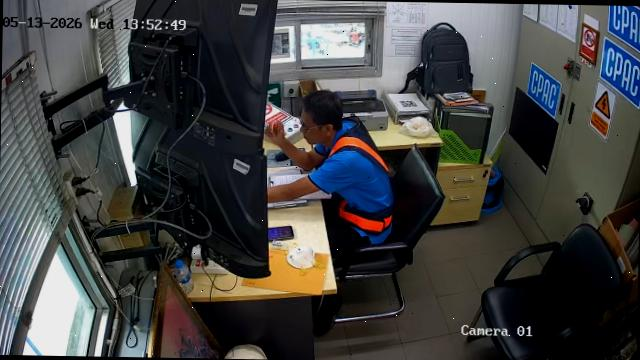Head: (302, 90, 342, 145)
People: (267, 92, 394, 265)
Phone: (268, 226, 293, 241)
